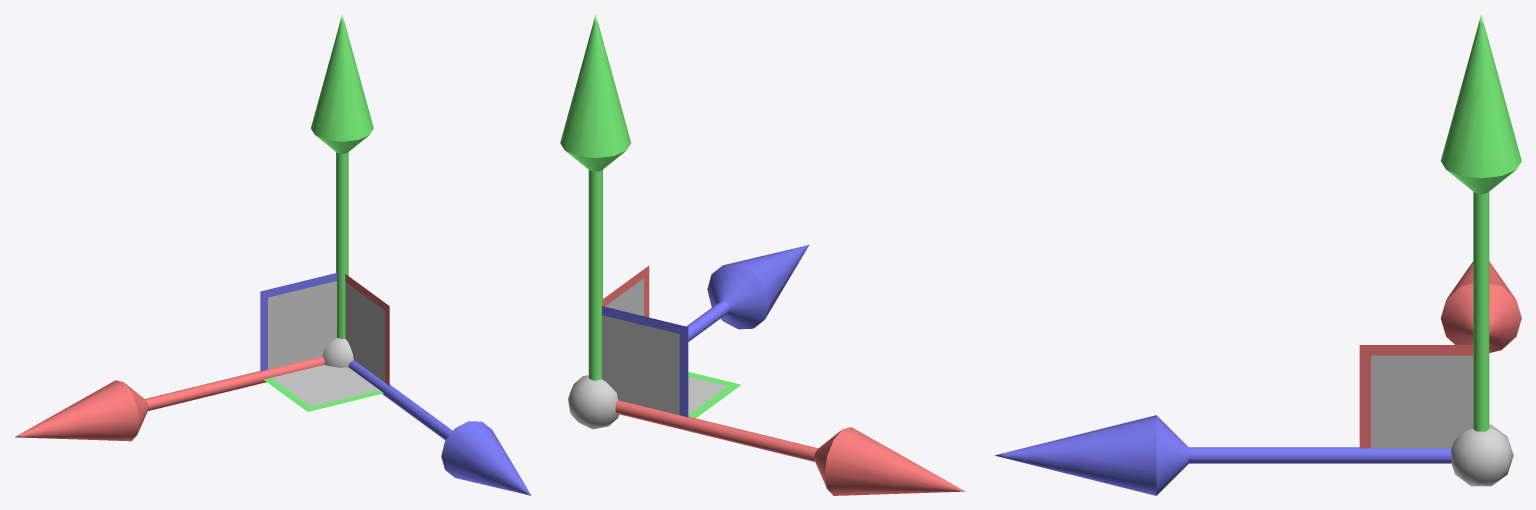
Rendered from TransformHandle.fbx.
The picture shows the model from 3 angles, left to right: view 1: azimuth 30°, elevation 25°; view 2: azimuth 150°, elevation 25°; view 3: azimuth 270°, elevation 25°; orthographic projection. The views are drawn at different scales.
Visible parts, largest first — view 1: Plane; view 2: Plane; view 3: Plane.
Part boxes in pixels (bbox=[...]): Plane: bbox=[15, 14, 531, 495]; Plane: bbox=[560, 14, 965, 495]; Plane: bbox=[994, 14, 1521, 495].
Size of the model in its own units: 162 by 162 by 163.
